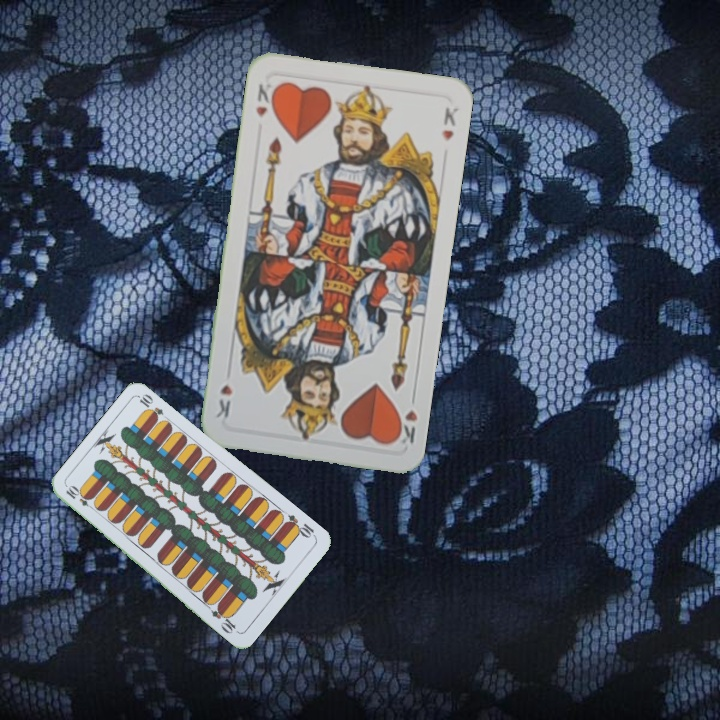E10: (281, 510, 318, 541), (62, 482, 98, 513)
HK: (390, 389, 420, 448), (251, 79, 279, 120)
